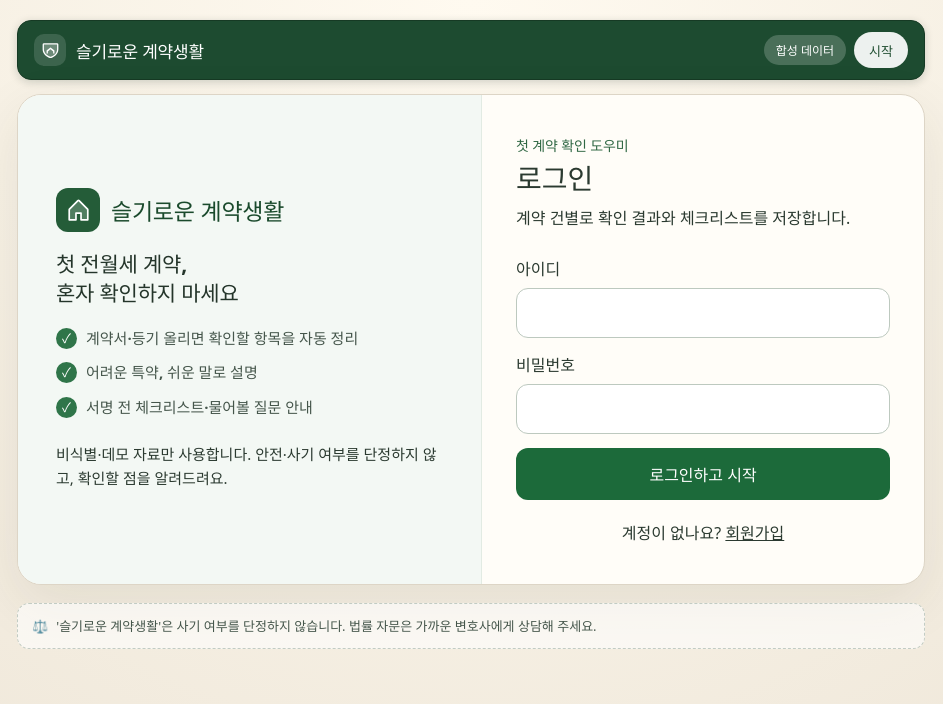
Scenario: primary page API errors › shows a 401 login response without navigating
Type "tester" into the field labelled "아이디". click: (703, 313)
box: x1=516 y1=288 x2=890 y2=338
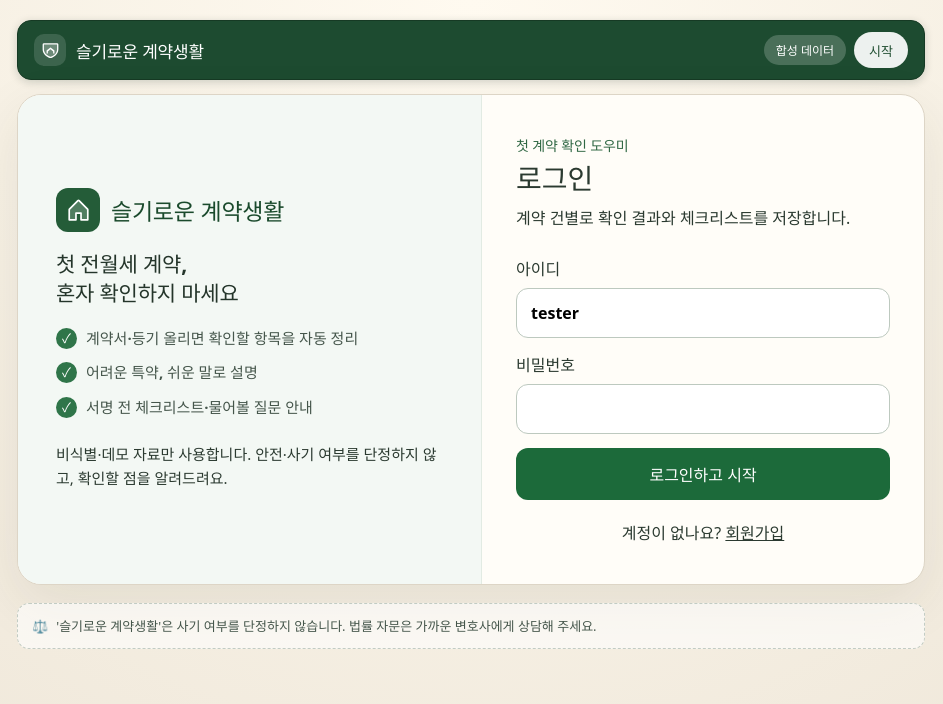
Type "password1!" into the password field labelled "비밀번호". click: (703, 409)
box: x1=516 y1=384 x2=890 y2=434
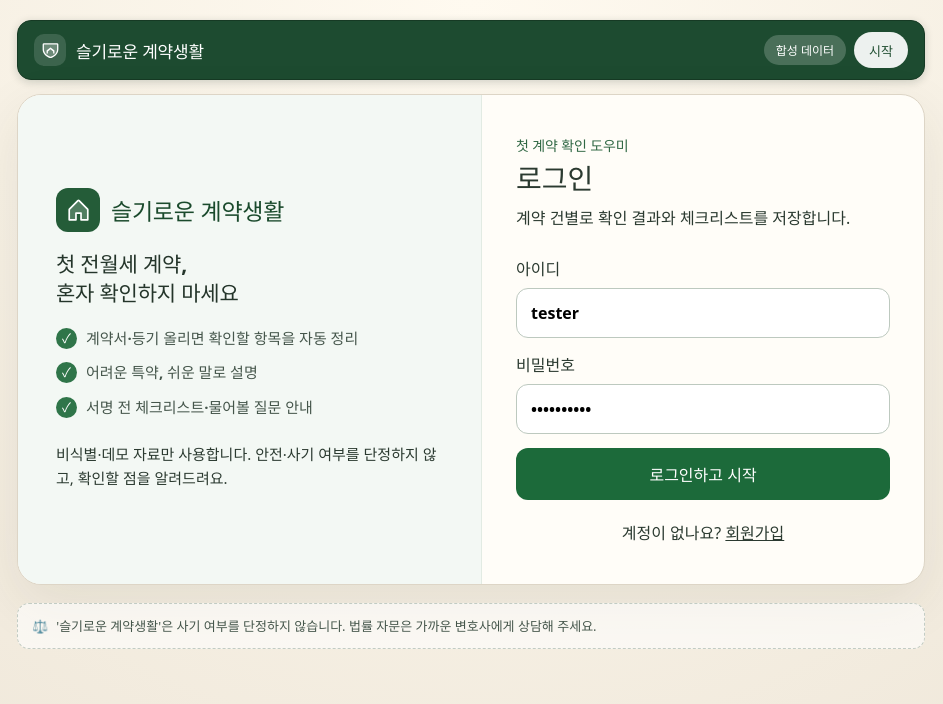
Click the button "로그인하고 시작". click: (703, 474)
box: x1=516 y1=448 x2=890 y2=500
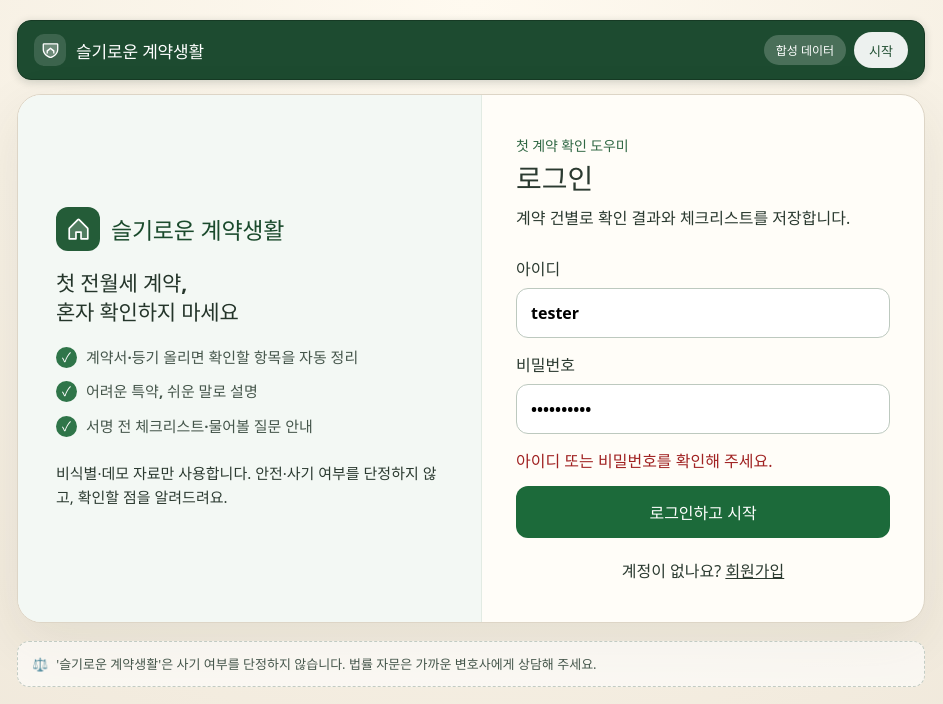
Expected: the message reads "아이디 또는 비밀번호를 확인해 주세요.", x1=516 y1=450 x2=772 y2=472
